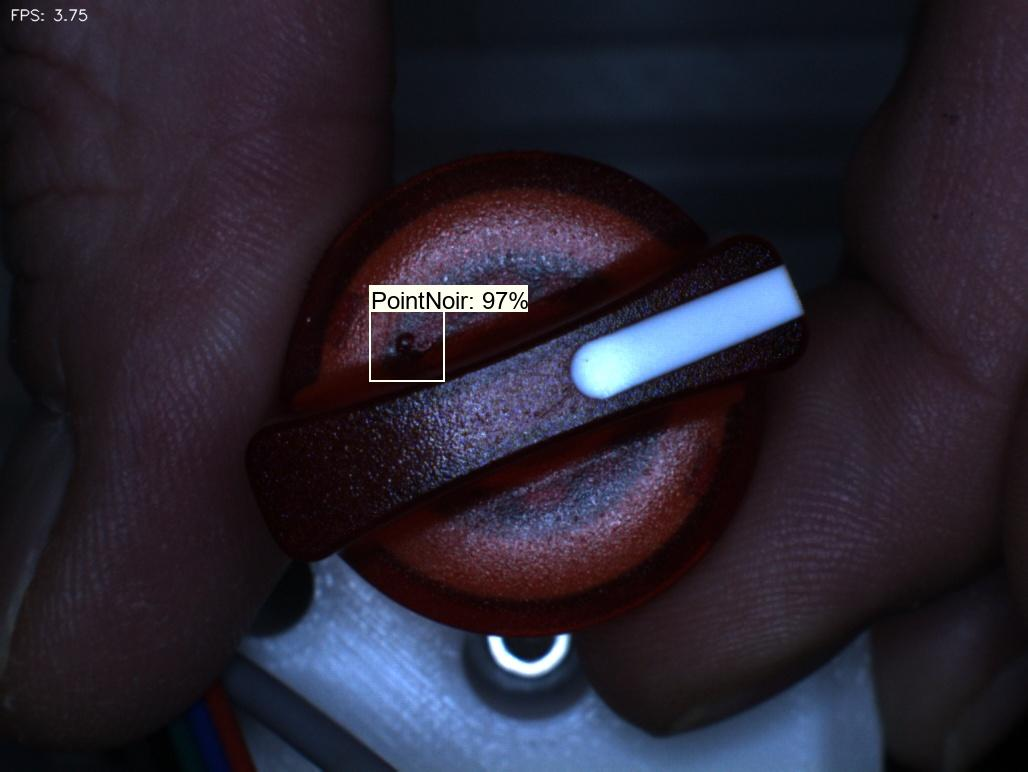Choc: (373, 317, 433, 376)
